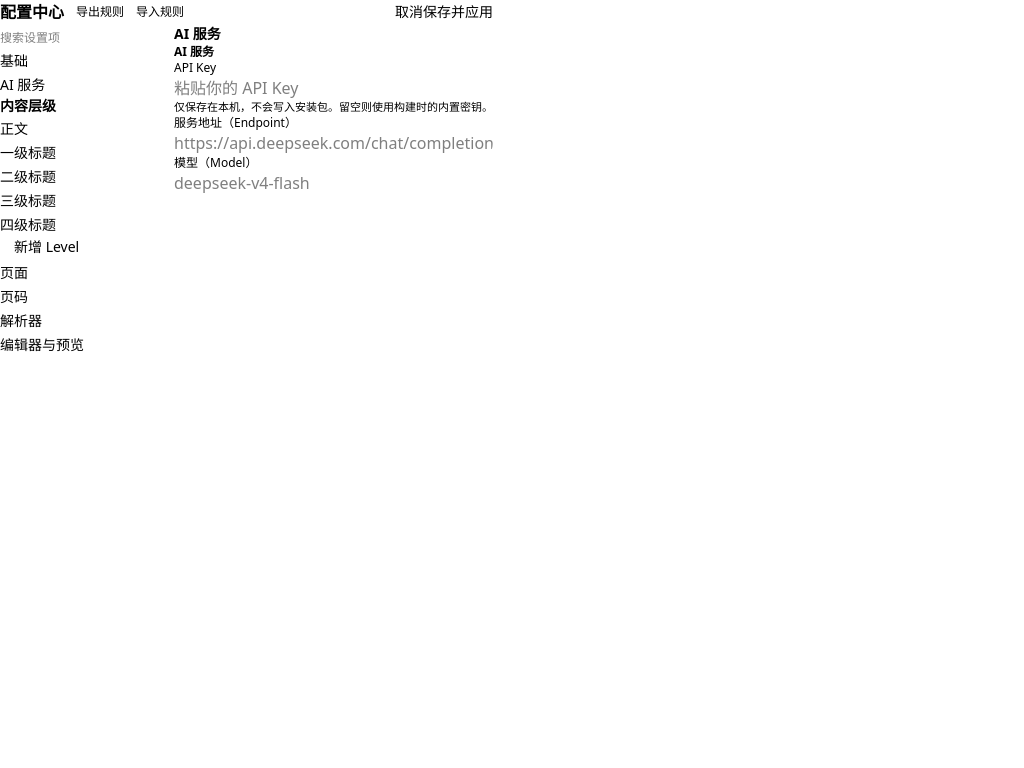
SettingsOverlay smoke › switches the detail pane when a nav section is selected
Step 1. Click the button "正文" → x=87, y=129, box [0,119,174,139]
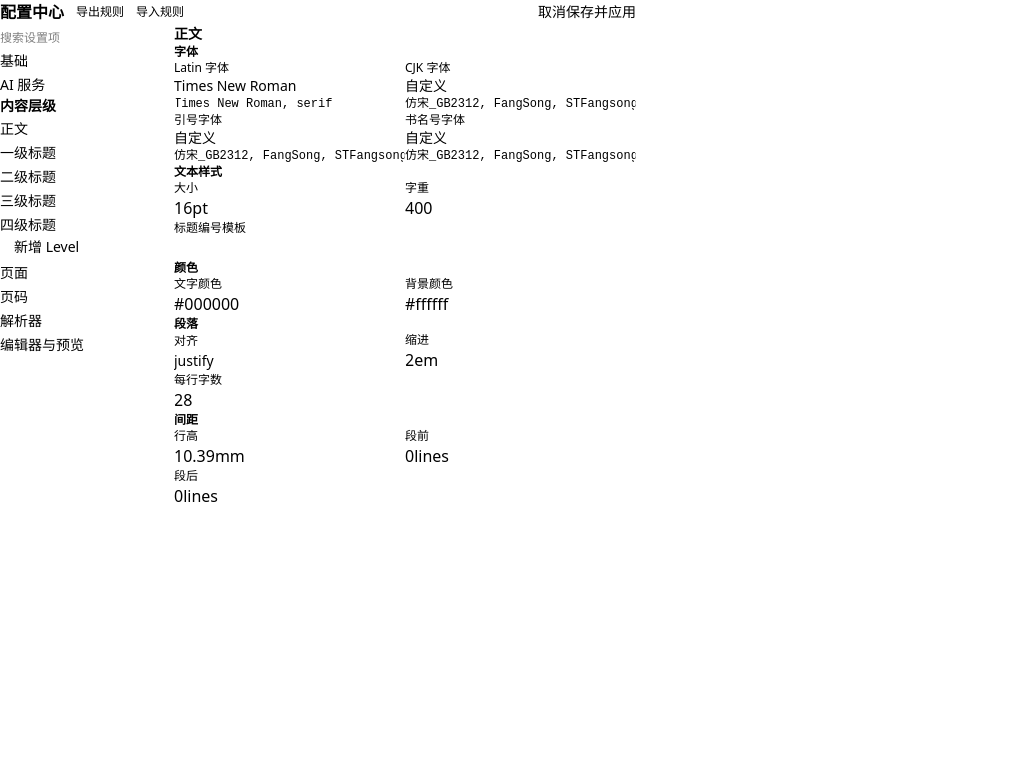
Result: the text "每行字数" is shown at [174,372,222,388]
Result: the text "字体" is shown at [174,43,198,60]
